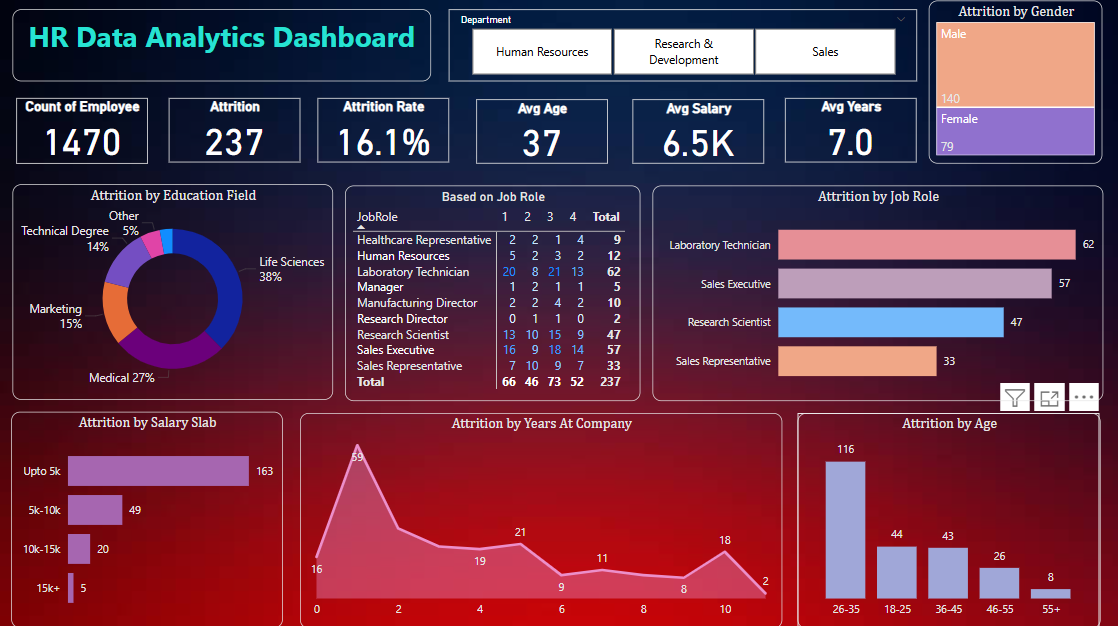

The dashboard page shown, as its layout file describes it:
{"tool":"powerbi","page":{"name":"Page 1","canvas":[1280,720],"ordinal":0},"visuals":[{"type":"card","title":"Count of Employee","fields":{"Values":["CountNonNull(HR_Analytics.EmpID)"]},"box":[18.8,113.8,150,75],"z":0},{"type":"card","title":"Attrition","fields":{"Values":["Sum(HR_Analytics.AttritionCount)"]},"box":[192.5,113.8,150,73.8],"z":1000},{"type":"card","title":"Attrition Rate","fields":{"Values":["HR_Analytics.AttritionRate"]},"box":[362.5,113.8,150,73.8],"z":2000},{"type":"card","title":"Avg Age","fields":{"Values":["Avg(HR_Analytics.Age)"]},"box":[543.8,115,150,73.8],"z":3000},{"type":"card","title":"Avg Salary","fields":{"Values":["Avg(HR_Analytics.MonthlyIncome)"]},"box":[722.5,115,150,73.8],"z":4000},{"type":"card","title":"Avg Years","fields":{"Values":["Avg(HR_Analytics.YearsAtCompany)"]},"box":[897.5,113.8,150,73.8],"z":5000},{"type":"donutChart","title":"Attrition by Education Field","fields":{"Category":["HR_Analytics.EducationField"],"Y":["Sum(HR_Analytics.AttritionCount)"]},"box":[13.8,212.5,366.2,246.2],"z":6000},{"type":"columnChart","title":"Attrition by Age","fields":{"Category":["HR_Analytics.AgeGroup"],"Y":["Sum(HR_Analytics.AttritionCount)"]},"box":[911.2,473.8,346.2,246.2],"z":7000},{"type":"pivotTable","title":"Based on Job Role","fields":{"Rows":["HR_Analytics.JobRole"],"Columns":["HR_Analytics.JobSatisfaction"],"Values":["Sum(HR_Analytics.AttritionCount)"]},"box":[393.8,213.8,337.5,246.2],"z":8000},{"type":"barChart","title":"Attrition by Salary Slab","fields":{"Category":["HR_Analytics.SalarySlab"],"Y":["Sum(HR_Analytics.AttritionCount)"]},"box":[13.3,473.5,310.2,246.9],"z":9000},{"type":"barChart","title":"Attrition by Job Role","fields":{"Y":["Sum(HR_Analytics.AttritionCount)"],"Category":["HR_Analytics.JobRole"]},"box":[745,213.8,515,246.2],"z":10000},{"type":"areaChart","title":"Attrition by Years At Company","fields":{"Category":["HR_Analytics.YearsAtCompany"],"Y":["Sum(HR_Analytics.AttritionCount)"]},"box":[342.5,473.8,551.2,246.2],"z":11000},{"type":"treemap","title":"Attrition by Gender","fields":{"Group":["HR_Analytics.Gender"],"Values":["Sum(HR_Analytics.AttritionCount)"]},"box":[1061.2,2.5,198.8,186.2],"z":12000},{"type":"slicer","fields":{"Values":["HR_Analytics.Department"]},"box":[512.5,12.5,535,82.5],"z":12001},{"type":"textbox","box":[13.8,12.5,478.8,82.5],"z":12002}]}

Visuals, with their boxes in screenshot pixels (x1, y1, x2, y2), scaled from the page's 1280x720 canvas onto the 1118x626 screenshot:
"Count of Employee" card: 16,99,147,164
"Attrition" card: 168,99,299,163
"Attrition Rate" card: 317,99,448,163
"Avg Age" card: 475,100,606,164
"Avg Salary" card: 631,100,762,164
"Avg Years" card: 784,99,915,163
"Attrition by Education Field" donutChart: 12,185,332,399
"Attrition by Age" columnChart: 796,412,1098,625
"Based on Job Role" pivotTable: 344,186,639,400
"Attrition by Salary Slab" barChart: 12,412,283,625
"Attrition by Job Role" barChart: 651,186,1101,400
"Attrition by Years At Company" areaChart: 299,412,781,625
"Attrition by Gender" treemap: 927,2,1101,164
slicer - HR_Analytics.Department: 448,11,915,83
textbox: 12,11,430,83
